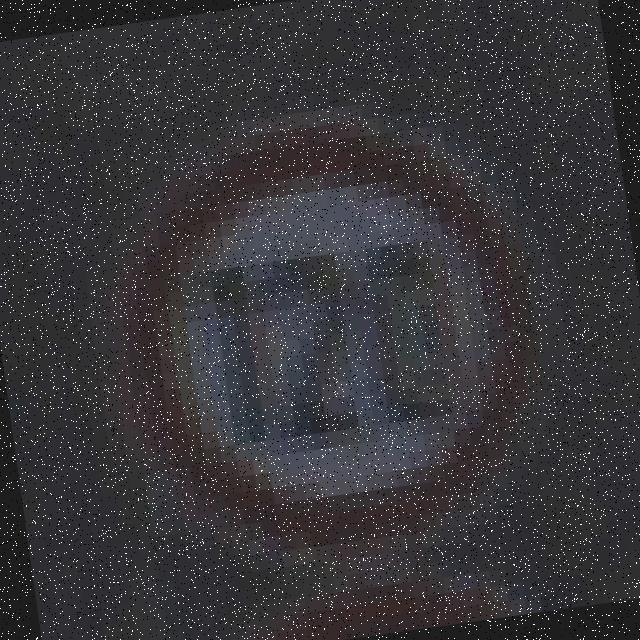Ograniczenie predkosci do 120: (108, 98, 548, 570)
